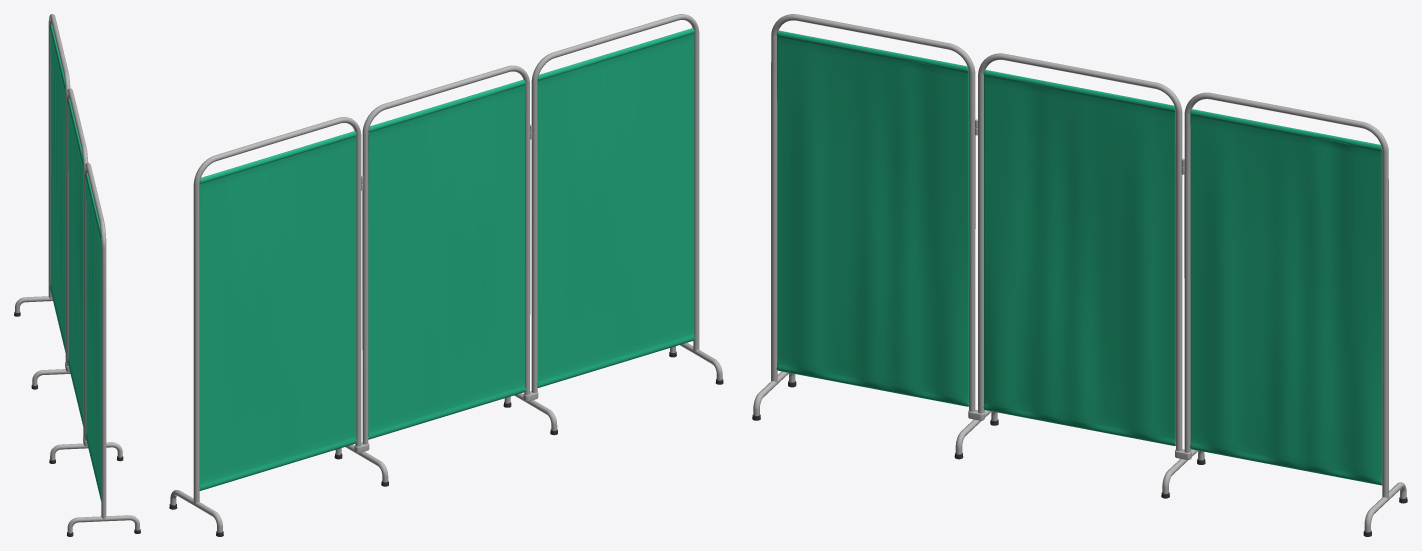
Rendered from partition.FBX.
The picture shows the model from 3 angles, left to right: view 1: azimuth 30°, elevation 25°; view 2: azimuth 150°, elevation 25°; view 3: azimuth 270°, elevation 25°; orthographic projection. The views are drawn at different scales.
Parts seen in each view (by area): view 1: cadnav.com; view 2: cadnav.com; view 3: cadnav.com.
Boxes of the visible parts, x1,y1,x2,y2 form: cadnav.com: [14, 14, 140, 536]; cadnav.com: [169, 14, 723, 536]; cadnav.com: [752, 14, 1407, 536].
Bounding box in the file's own units: 1390 × 1659 × 2512.
